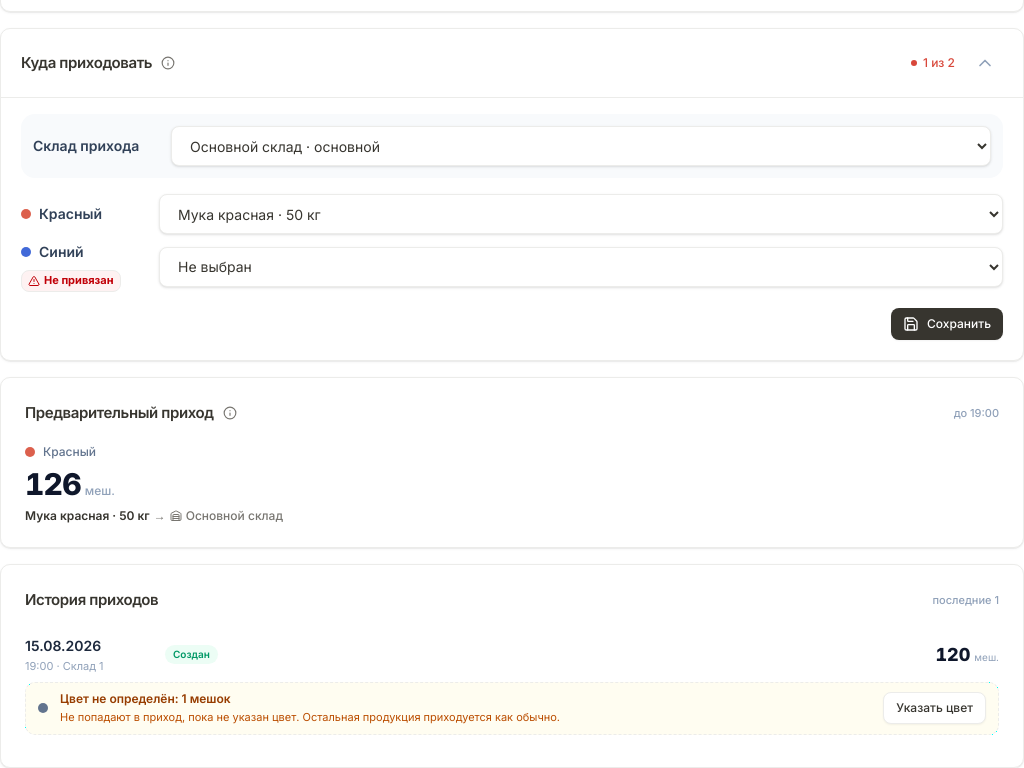
Test case: AlwaysOnProductionPanel › показывает мешки без цвета у оприходованной смены
(page scrolled)
Check: the text "Цвет не определён: 1 мешок" is shown, box [60,691,231,706]
Click the button "Указать цвет" at point(935, 708), box [883,692,986,724]
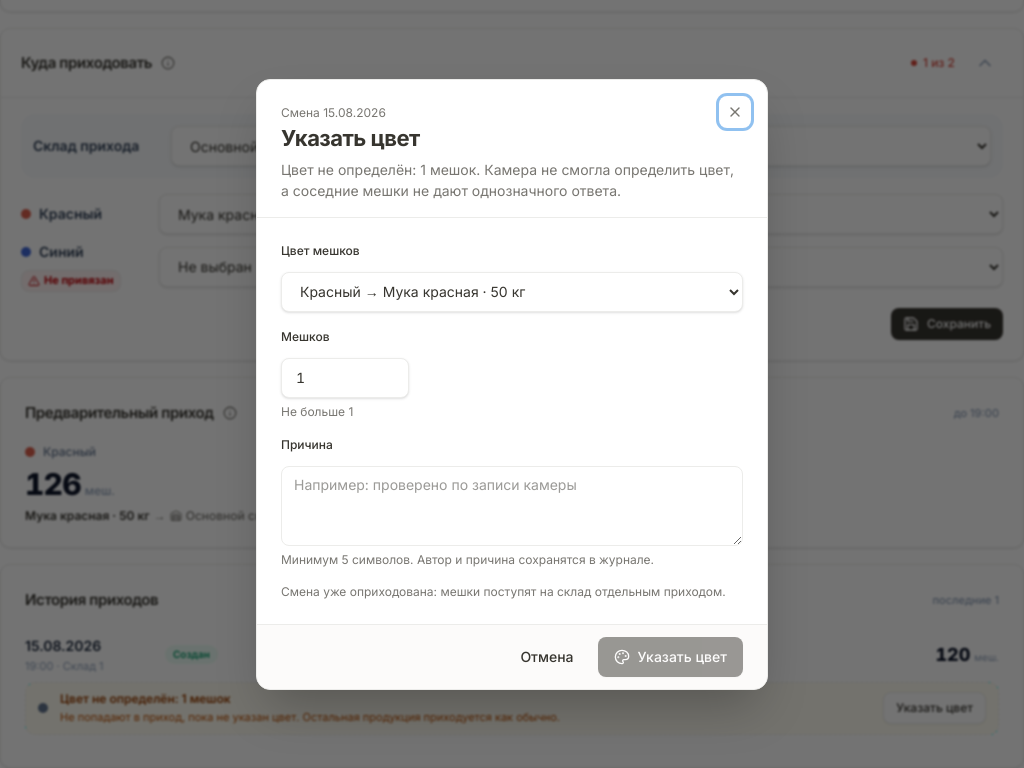
Check: the text "Смена 15.08.2026" is shown, box [281,104,386,120]
Check: the text "Цвет не определён: 1 мешок." is shown, box [281,160,734,198]
Check: the text "отдельным приходом" is shown, box [281,584,726,598]
